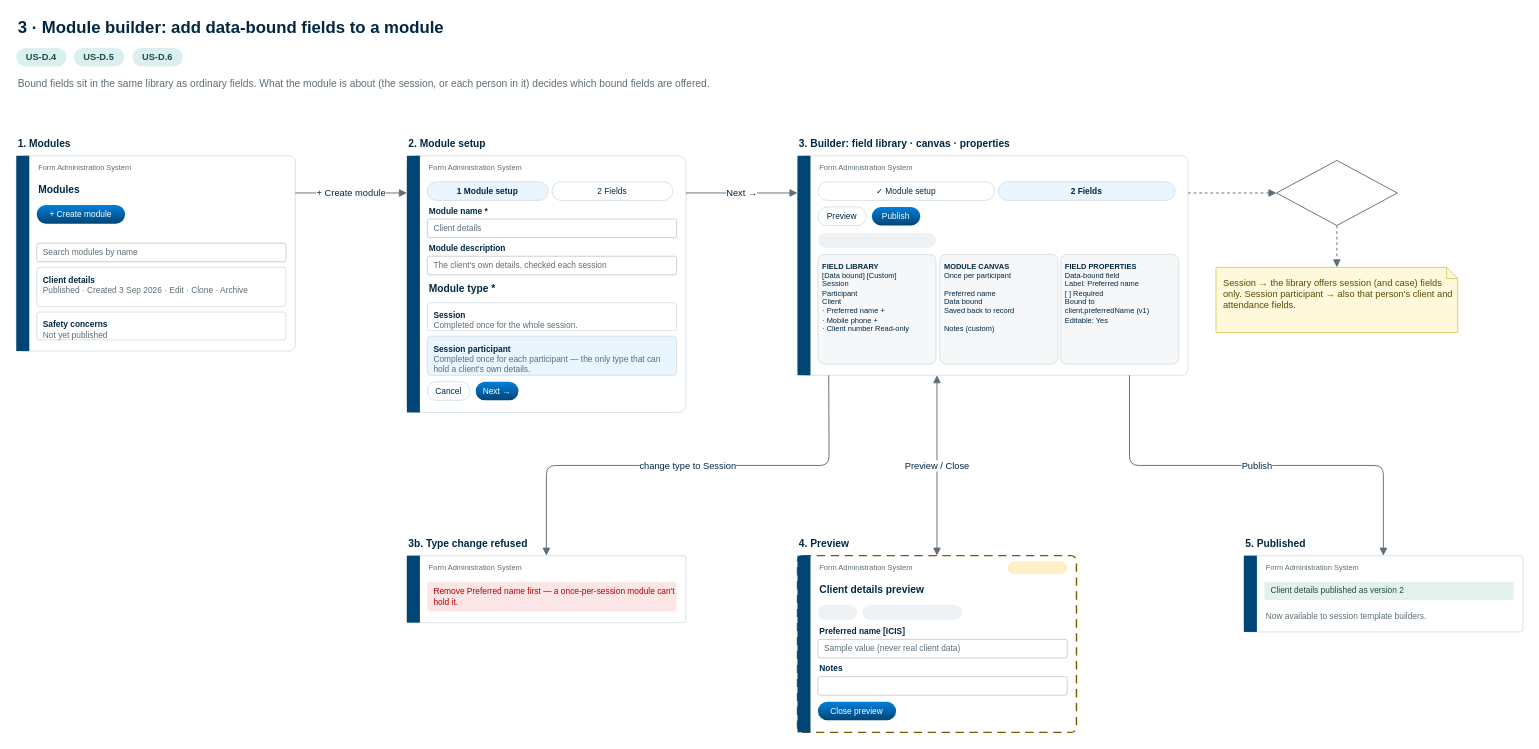
This 1539x749 diagram has some shape labels left out. Here are the shapes that lost their labels. From the top down, the centre of each, then its label:
At point 1336,192: "Module type?".
At point 876,239: "Changes save as a draft".
At point 1037,567: "PROPOSED".
At point 837,611: "Module".
At point 912,611: "Session participant".
